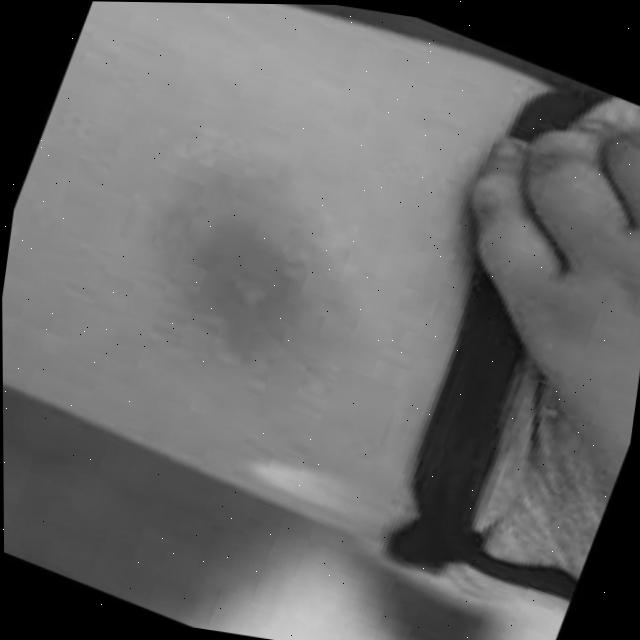Eczema: (140, 183, 323, 372)
